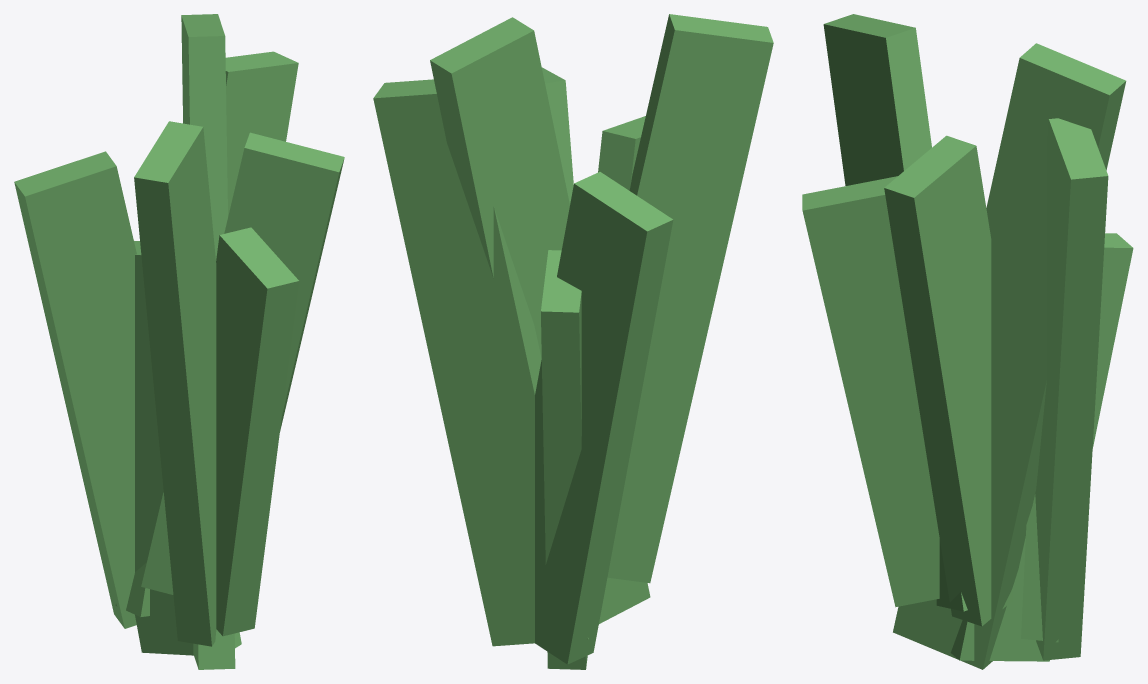
The model's file is Veg_BankPlant_Low.fbx.
The picture shows the model from 3 angles, left to right: view 1: azimuth 30°, elevation 25°; view 2: azimuth 150°, elevation 25°; view 3: azimuth 270°, elevation 25°; orthographic projection. The views are drawn at different scales.
Parts seen in each view (by area): view 1: Veg_BankPlant_Low; view 2: Veg_BankPlant_Low; view 3: Veg_BankPlant_Low.
Part boxes in pixels (x1,y1,x2,y2): Veg_BankPlant_Low: (14,14,344,669); Veg_BankPlant_Low: (373,14,773,669); Veg_BankPlant_Low: (802,14,1133,669).
Size of the model in its own units: 0.2594 by 0.5425 by 0.259.
